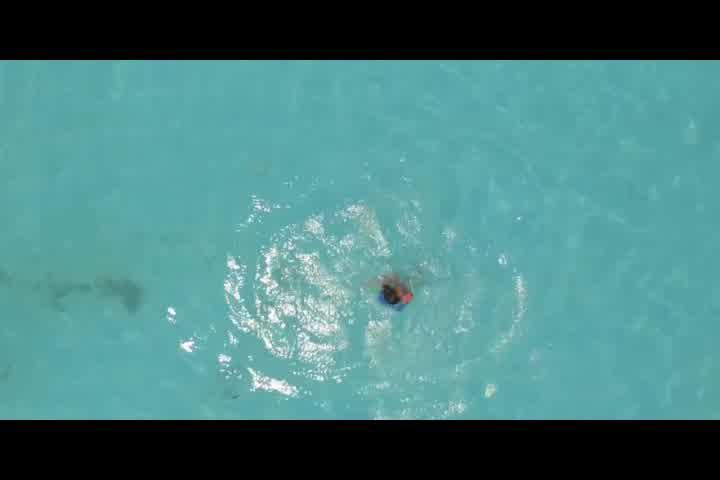human: (378, 272, 413, 316)
